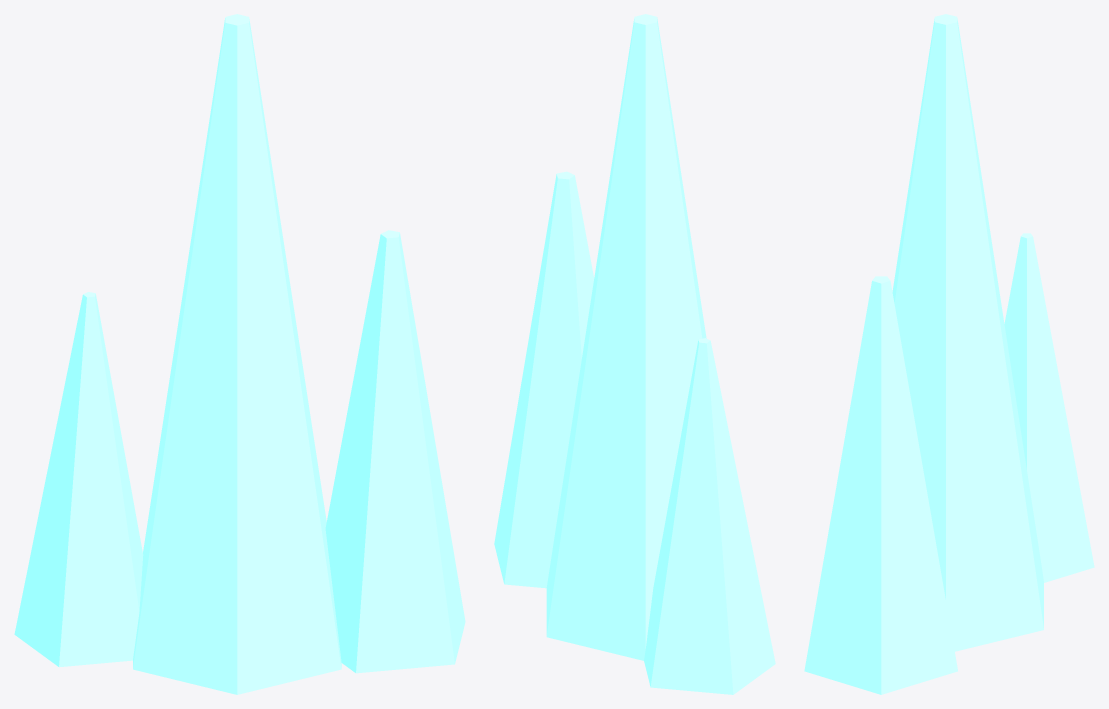
Rendered from crystal_cluster.glb.
The picture shows the model from 3 angles, left to right: view 1: azimuth 30°, elevation 25°; view 2: azimuth 150°, elevation 25°; view 3: azimuth 270°, elevation 25°; orthographic projection. The views are drawn at different scales.
Parts seen in each view (by area): view 1: CrystalCluster; view 2: CrystalCluster; view 3: CrystalCluster.
Boxes of the visible parts, x1,y1,x2,y2 form: CrystalCluster: (14,14,465,694); CrystalCluster: (494,14,775,694); CrystalCluster: (804,14,1094,694).
Size of the model in its own units: 1.18 by 2 by 0.897.
